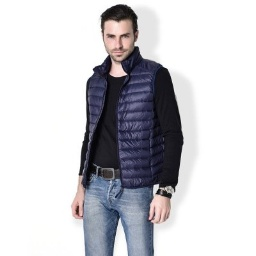face: (99, 3, 140, 63)
